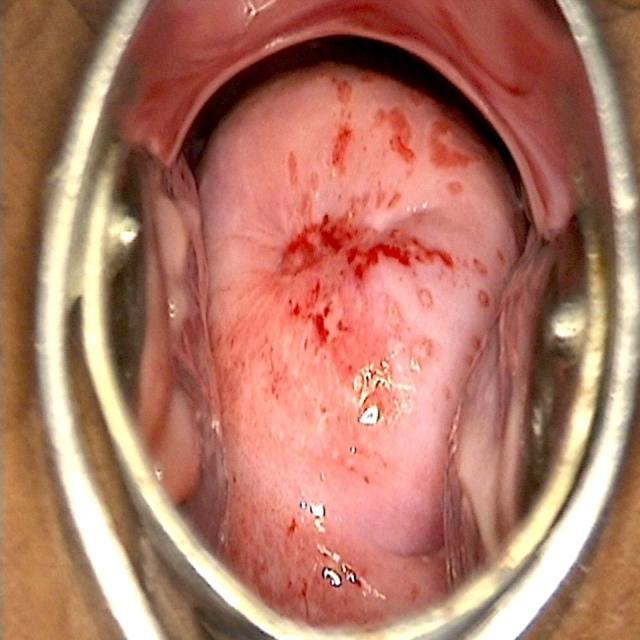cervical_lesion: (219, 114, 483, 626)
